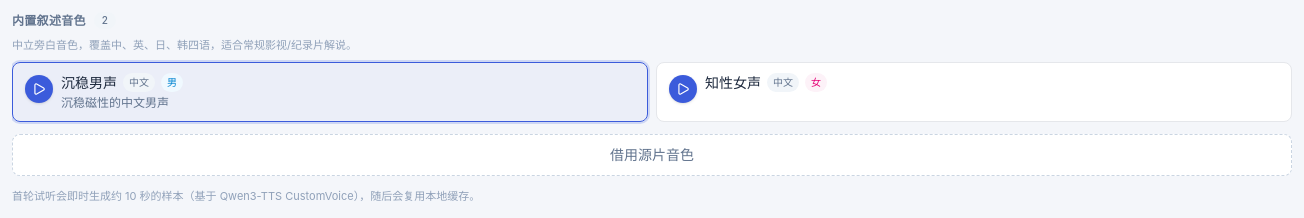
Scenario: NarratorVoicePicker.handlePreview › plays the audio when fetch returns a valid wav blob
Click the 1st button named "试听".
click(39, 89)  # box [25, 75, 53, 103]
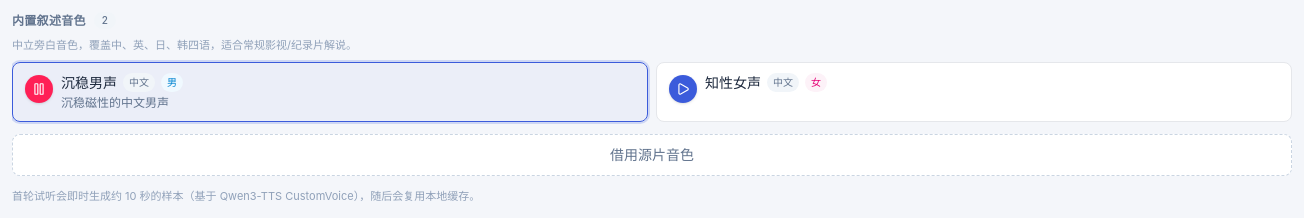
Result: the button named "停止试听" is shown at [25, 75, 53, 103]
